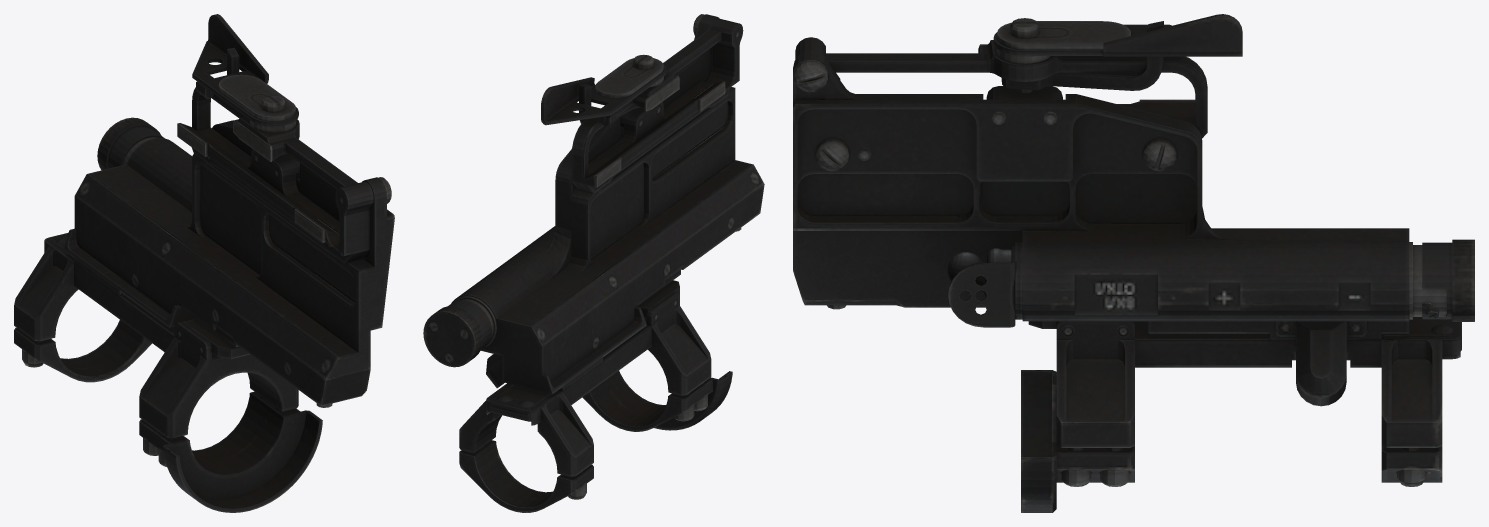
3 views of the same model, side by side, from view 1: azimuth 30°, elevation 25°; view 2: azimuth 150°, elevation 25°; view 3: azimuth 270°, elevation 25° (orthographic). The views are drawn at different scales.
Visible parts, largest first — view 1: TW_5d0a29ead7ad1a0026013f27_PZ_Import; view 2: TW_5d0a29ead7ad1a0026013f27_PZ_Import; view 3: TW_5d0a29ead7ad1a0026013f27_PZ_Import.
Part boxes in pixels (left/top/right/bottom): TW_5d0a29ead7ad1a0026013f27_PZ_Import: left=14, top=14, right=394, bottom=512; TW_5d0a29ead7ad1a0026013f27_PZ_Import: left=423, top=14, right=764, bottom=512; TW_5d0a29ead7ad1a0026013f27_PZ_Import: left=793, top=14, right=1474, bottom=512.
Size of the model in its own units: 0.0347 by 0.1014 by 0.0851.
1 material, 1 textured.
